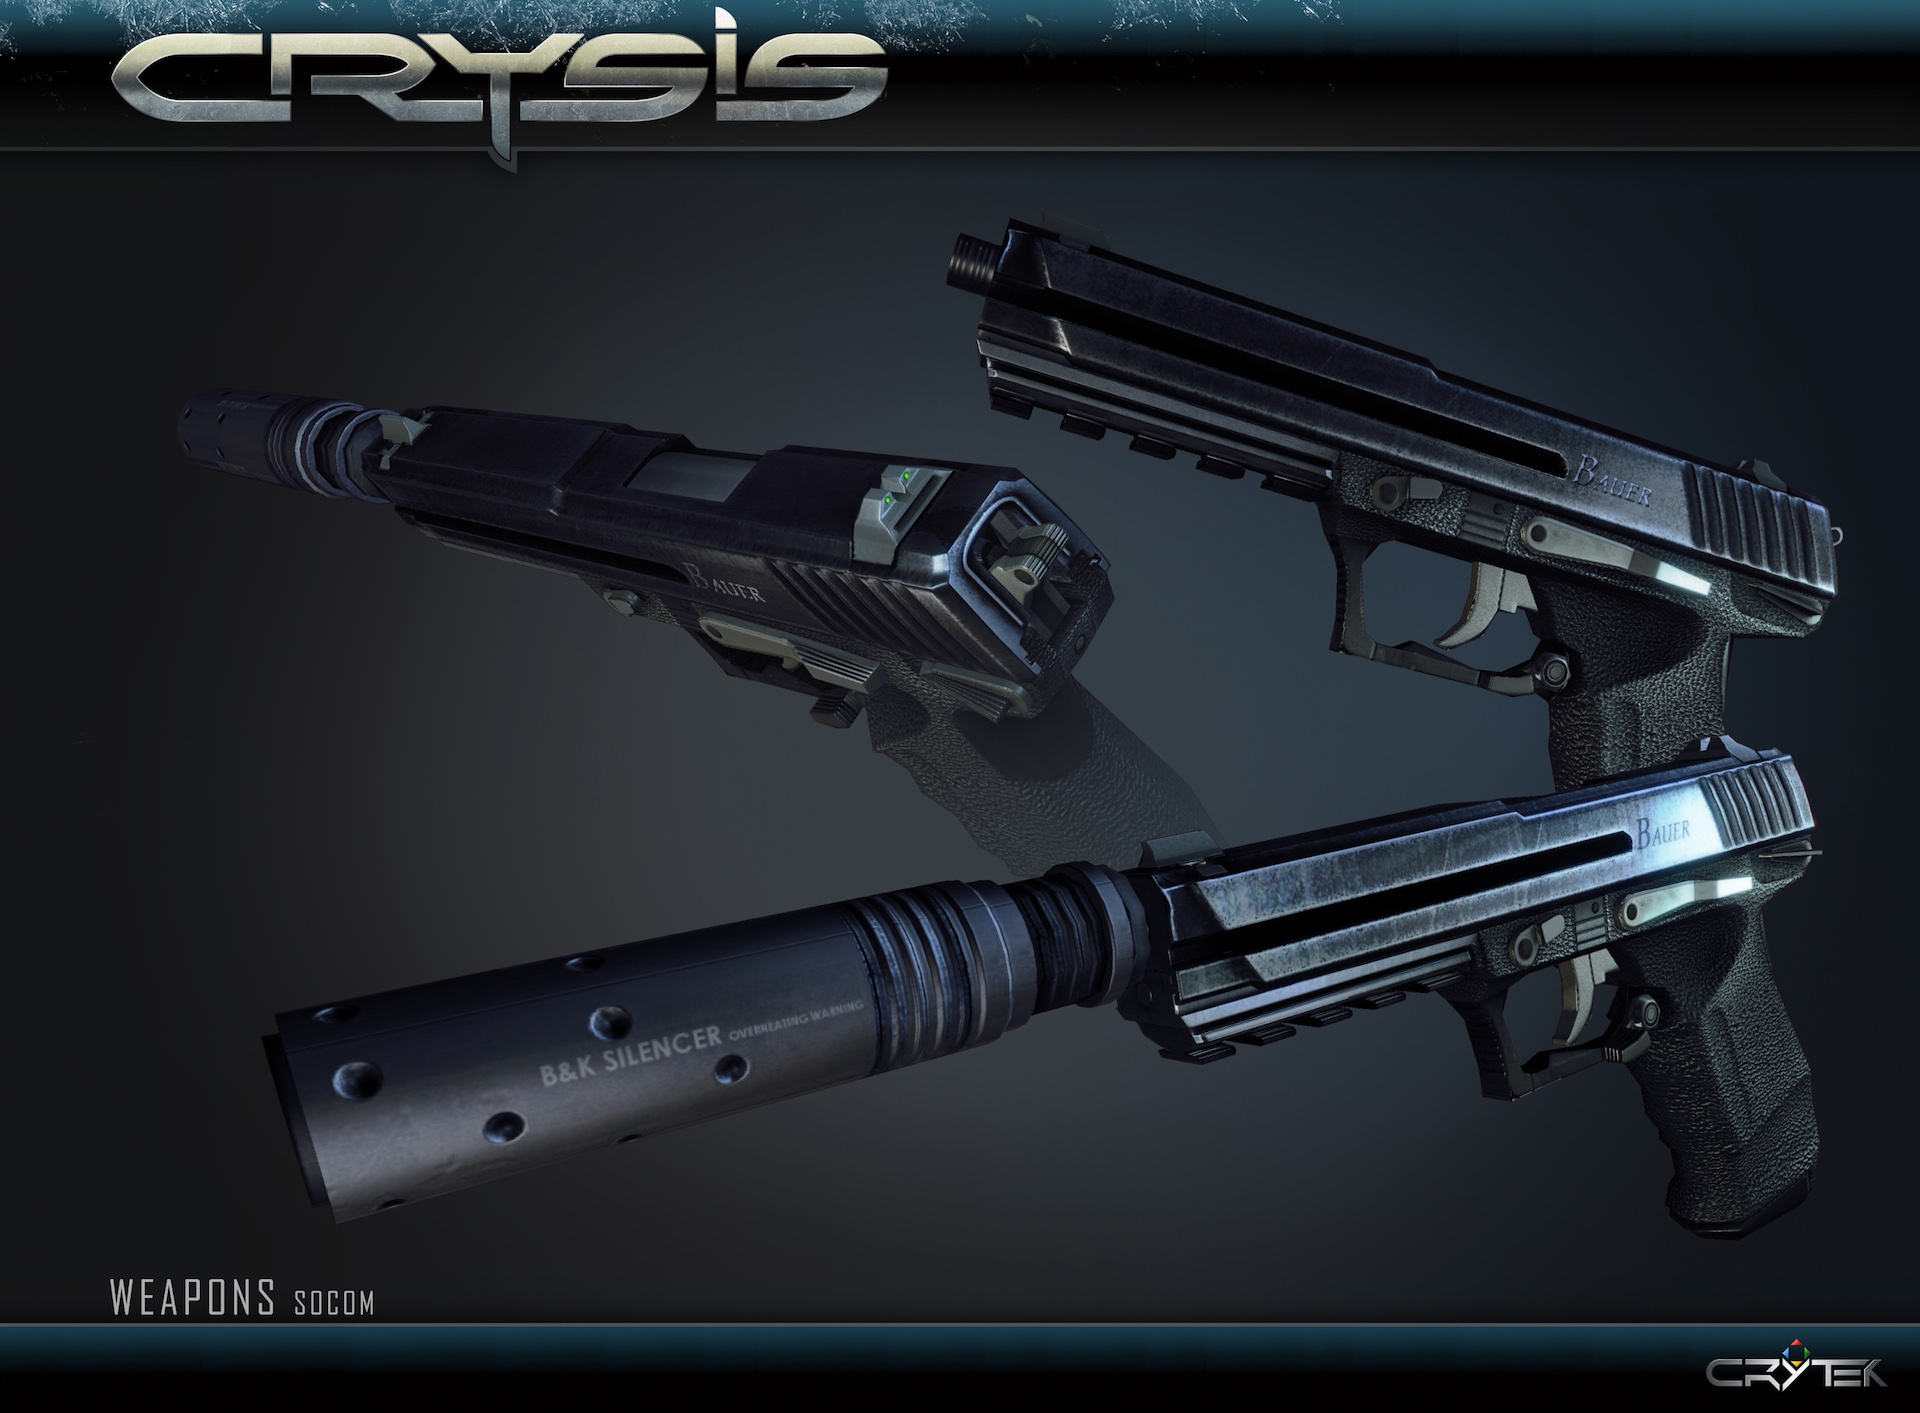pistol: (939, 218, 1850, 794), (382, 393, 1207, 876), (1137, 730, 1829, 1236)
